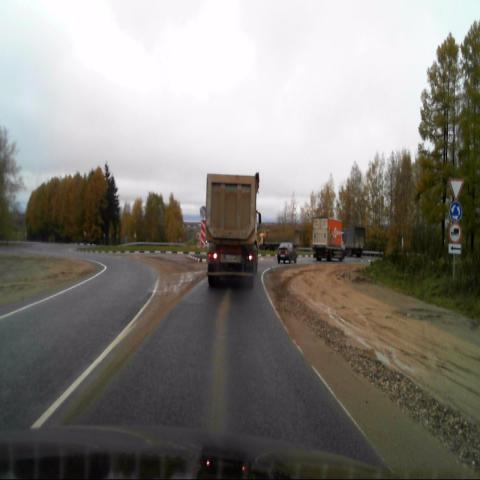3_4_1: (449, 224, 461, 244)
4_3: (449, 201, 462, 222)
